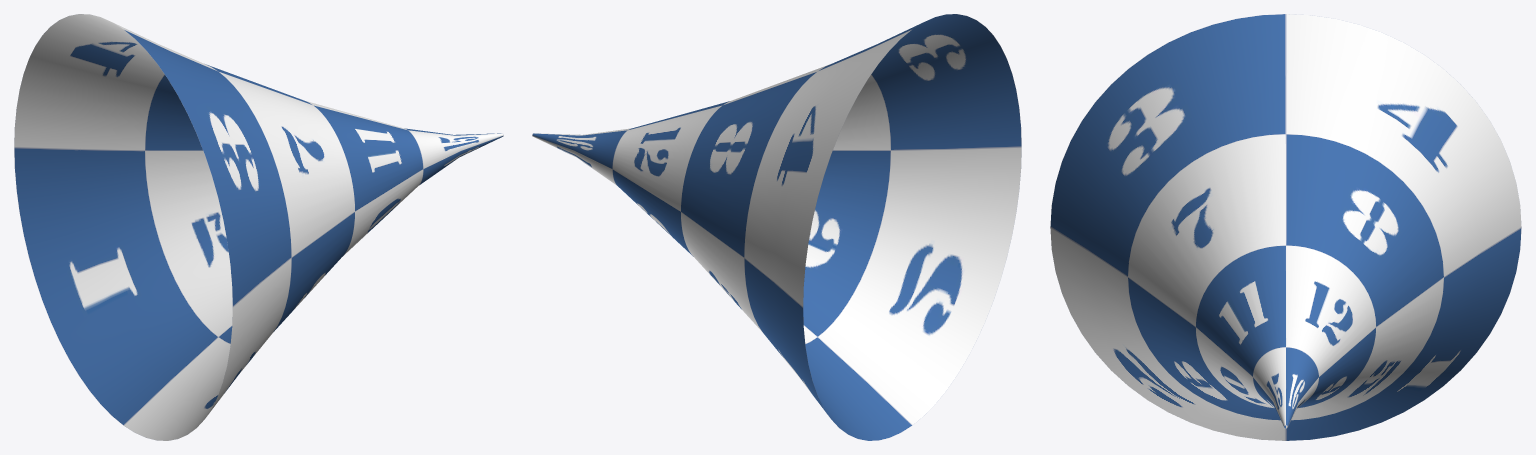
Rendered from Rui_Web7.fbx.
3 views of the same model, side by side, from view 1: azimuth 30°, elevation 25°; view 2: azimuth 150°, elevation 25°; view 3: azimuth 270°, elevation 25° (orthographic). The views are drawn at different scales.
Parts seen in each view (by area): view 1: SM_e_DLC_Plc_P1007_AtkCmbW04D01_Web001; view 2: SM_e_DLC_Plc_P1007_AtkCmbW04D01_Web001; view 3: SM_e_DLC_Plc_P1007_AtkCmbW04D01_Web001.
Boxes of the visible parts, left/top/right/bottom form: SM_e_DLC_Plc_P1007_AtkCmbW04D01_Web001: left=14, top=14, right=503, bottom=440; SM_e_DLC_Plc_P1007_AtkCmbW04D01_Web001: left=532, top=14, right=1021, bottom=440; SM_e_DLC_Plc_P1007_AtkCmbW04D01_Web001: left=1050, top=14, right=1521, bottom=440.
Bounding box in the file's own units: 140 × 140 × 140.
Materials: 1 (1 with a texture image).
